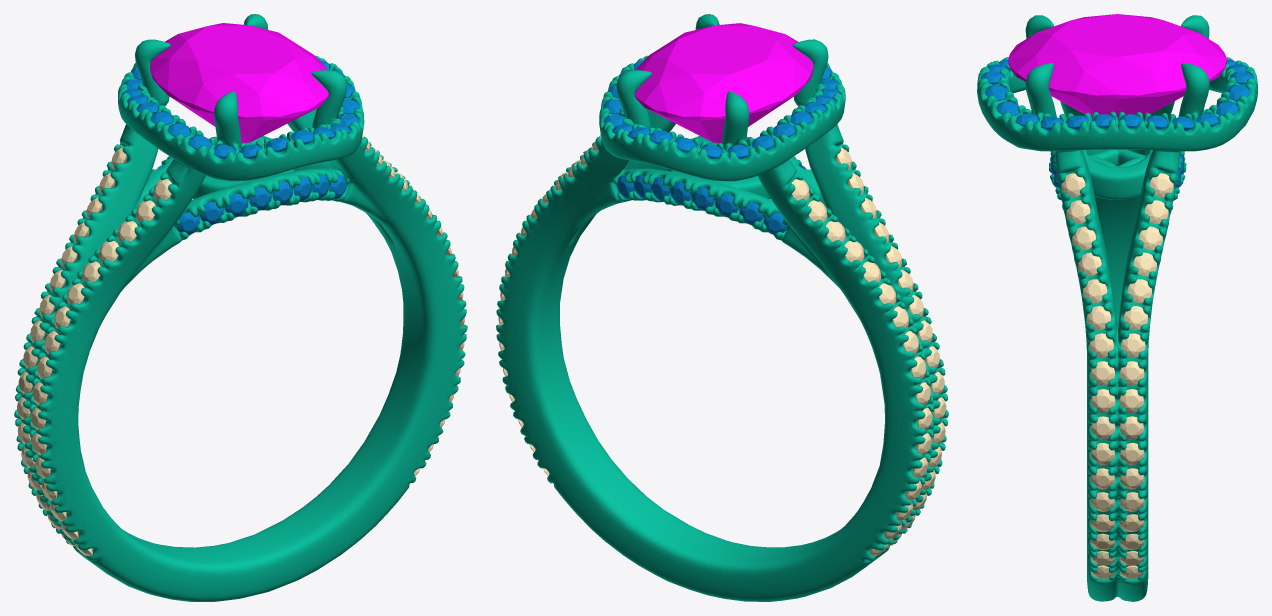
The model's file is BE1M0177_OV_200ct_RENDER.glb.
3 renders of one model, left to right at view 1: azimuth 30°, elevation 25°; view 2: azimuth 150°, elevation 25°; view 3: azimuth 270°, elevation 25°, orthographic.
Parts seen in each view (by area): view 1: Metal 01, CS_Diamond_Oval; view 2: Metal 01, CS_Diamond_Oval; view 3: Metal 01, CS_Diamond_Oval, Diamond_Round_Gem_SH.020, Diamond_Round_Gem_SH.013, Diamond_Round_Gem_SH.022, Diamond_Round_Gem_SH.012, Diamond_Round_Gem_SH.021, Diamond_Round_Gem_SH.019, Diamond_Round_Gem_SH.011, Diamond_Round_Gem_SH.014, Diamond_Round_Gem_SH.032, Diamond_Round_Gem_SH.033 (+13 smaller).
Boxes of the visible parts, x1,y1,x2,y2 form: Metal 01: (14, 14, 467, 601); CS_Diamond_Oval: (150, 23, 328, 142); Metal 01: (496, 14, 948, 601); CS_Diamond_Oval: (634, 23, 813, 143); Metal 01: (977, 15, 1257, 601); CS_Diamond_Oval: (1008, 14, 1226, 117); Diamond_Round_Gem_SH.020: (1089, 333, 1113, 357); Diamond_Round_Gem_SH.013: (1121, 333, 1145, 357); Diamond_Round_Gem_SH.022: (1091, 389, 1115, 412); Diamond_Round_Gem_SH.012: (1120, 361, 1144, 385); Diamond_Round_Gem_SH.021: (1091, 361, 1114, 385); Diamond_Round_Gem_SH.019: (1087, 306, 1111, 330); Diamond_Round_Gem_SH.011: (1119, 389, 1143, 412); Diamond_Round_Gem_SH.014: (1124, 306, 1148, 330); Diamond_Round_Gem_SH.032: (1061, 173, 1085, 197); Diamond_Round_Gem_SH.033: (1066, 200, 1090, 223).
Bounding box in the file's own units: 20.53 × 24.65 × 11.56.
